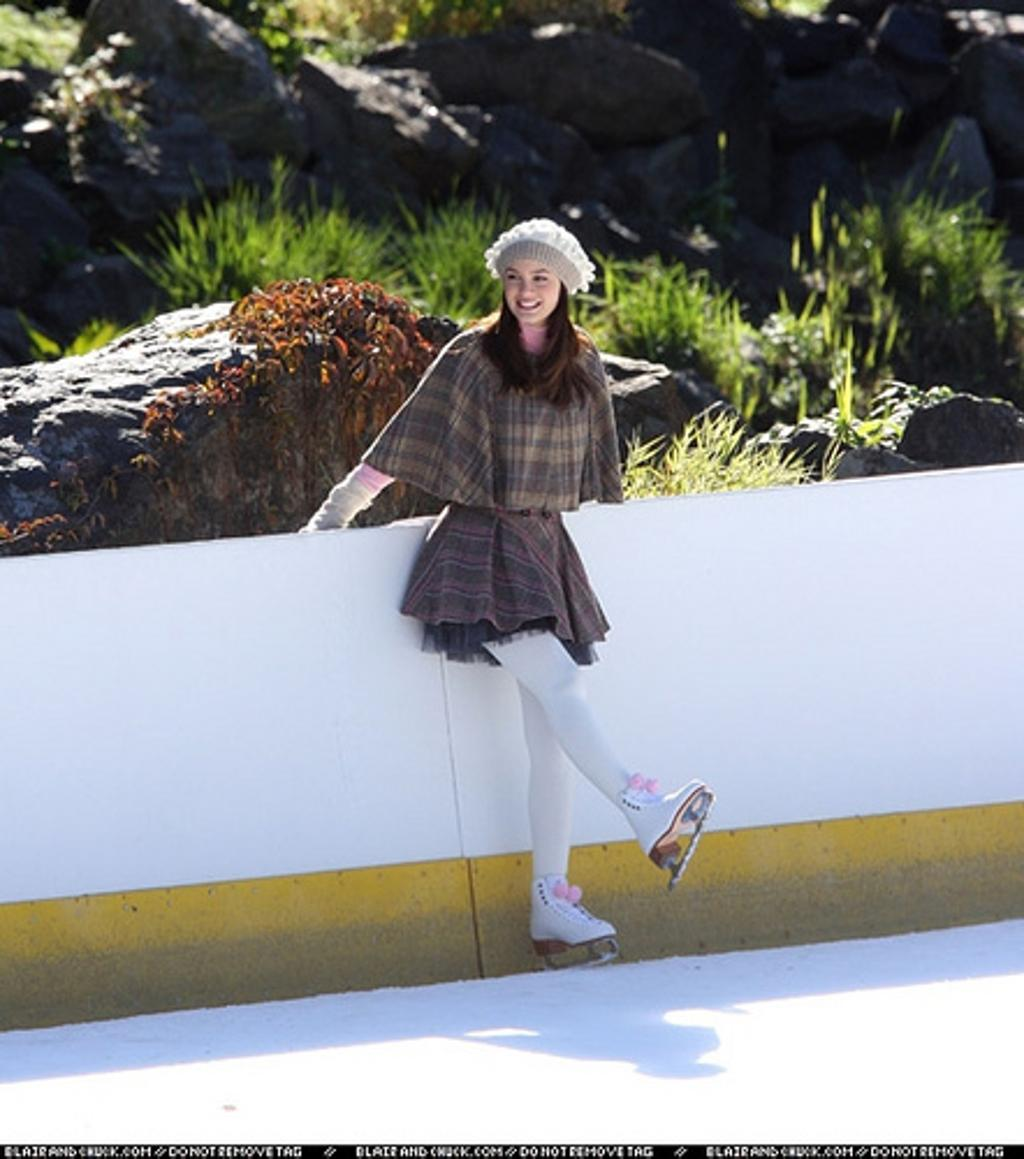face: (506, 253, 560, 319)
